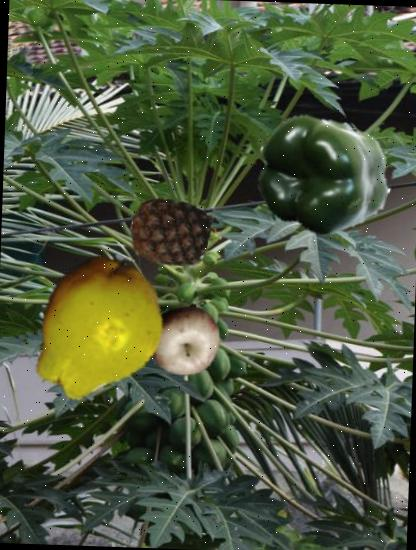Apple: (145, 300, 223, 378)
Pepper: (253, 106, 395, 248)
Pineapple: (129, 191, 212, 274)
Quince: (22, 252, 178, 407)
